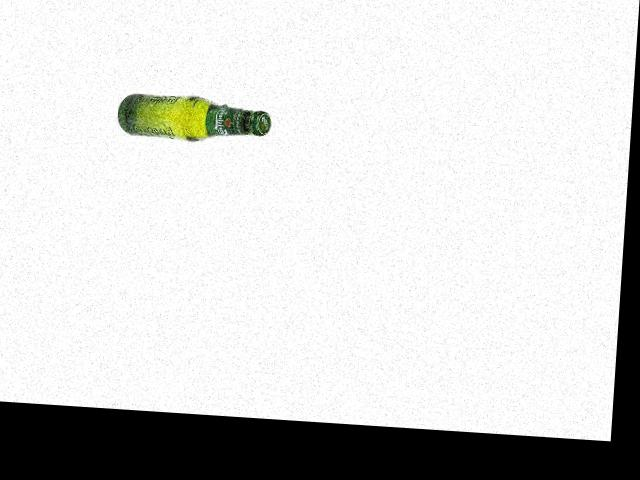beer: (116, 90, 272, 145)
